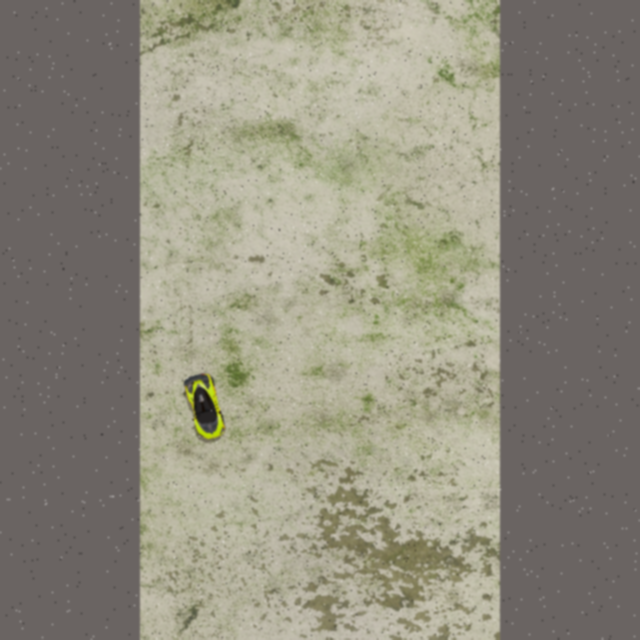car: (179, 370, 228, 445)
